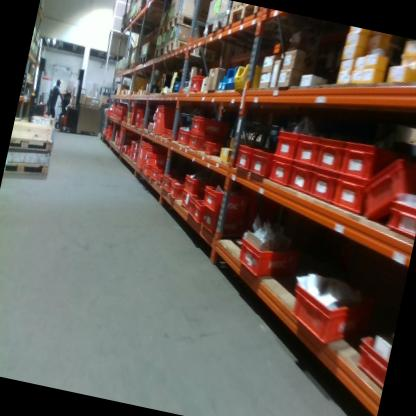pallet: (7, 133, 52, 162), (165, 10, 206, 39), (3, 159, 49, 184), (225, 2, 258, 32), (162, 35, 196, 63), (203, 8, 231, 40), (139, 52, 151, 68), (133, 3, 144, 18), (157, 19, 168, 33), (154, 44, 163, 60), (127, 59, 138, 71), (126, 11, 134, 25), (144, 0, 158, 8), (131, 45, 141, 55)
pallet_truck: (56, 62, 89, 135), (27, 53, 62, 118)
small_load_carrier: (282, 272, 379, 353), (359, 150, 416, 232), (234, 230, 308, 289), (349, 329, 393, 390), (338, 132, 380, 182), (200, 184, 252, 219), (329, 171, 369, 215), (382, 196, 416, 243), (312, 134, 347, 171), (200, 205, 235, 242), (285, 161, 318, 197), (307, 167, 338, 205), (151, 103, 181, 141), (246, 146, 276, 182), (265, 153, 293, 190), (188, 111, 225, 138), (271, 125, 300, 158), (292, 135, 320, 166), (140, 145, 166, 177), (180, 170, 206, 199), (134, 139, 151, 173), (233, 145, 255, 171), (167, 179, 189, 203), (201, 135, 223, 158), (187, 131, 207, 152), (177, 189, 196, 211), (190, 197, 205, 223), (187, 72, 203, 93), (143, 151, 160, 168), (147, 163, 161, 183), (174, 128, 189, 146), (154, 171, 167, 191), (161, 176, 173, 193), (187, 195, 197, 214), (127, 106, 136, 125), (137, 117, 148, 131), (140, 165, 151, 178), (159, 127, 168, 140), (134, 106, 143, 118), (130, 150, 138, 163), (165, 128, 174, 139), (129, 139, 136, 151), (133, 116, 141, 126), (132, 141, 139, 151), (128, 150, 133, 159)
